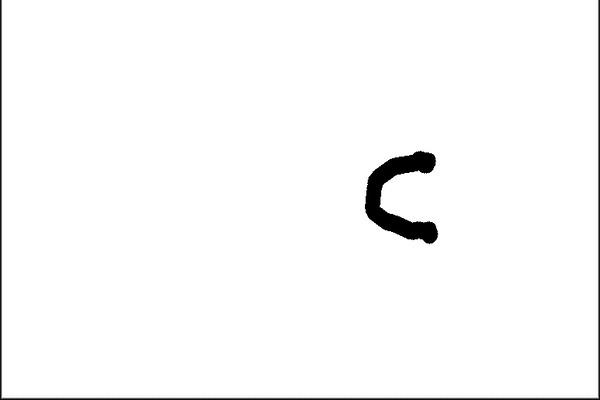C: (356, 145, 447, 251)
